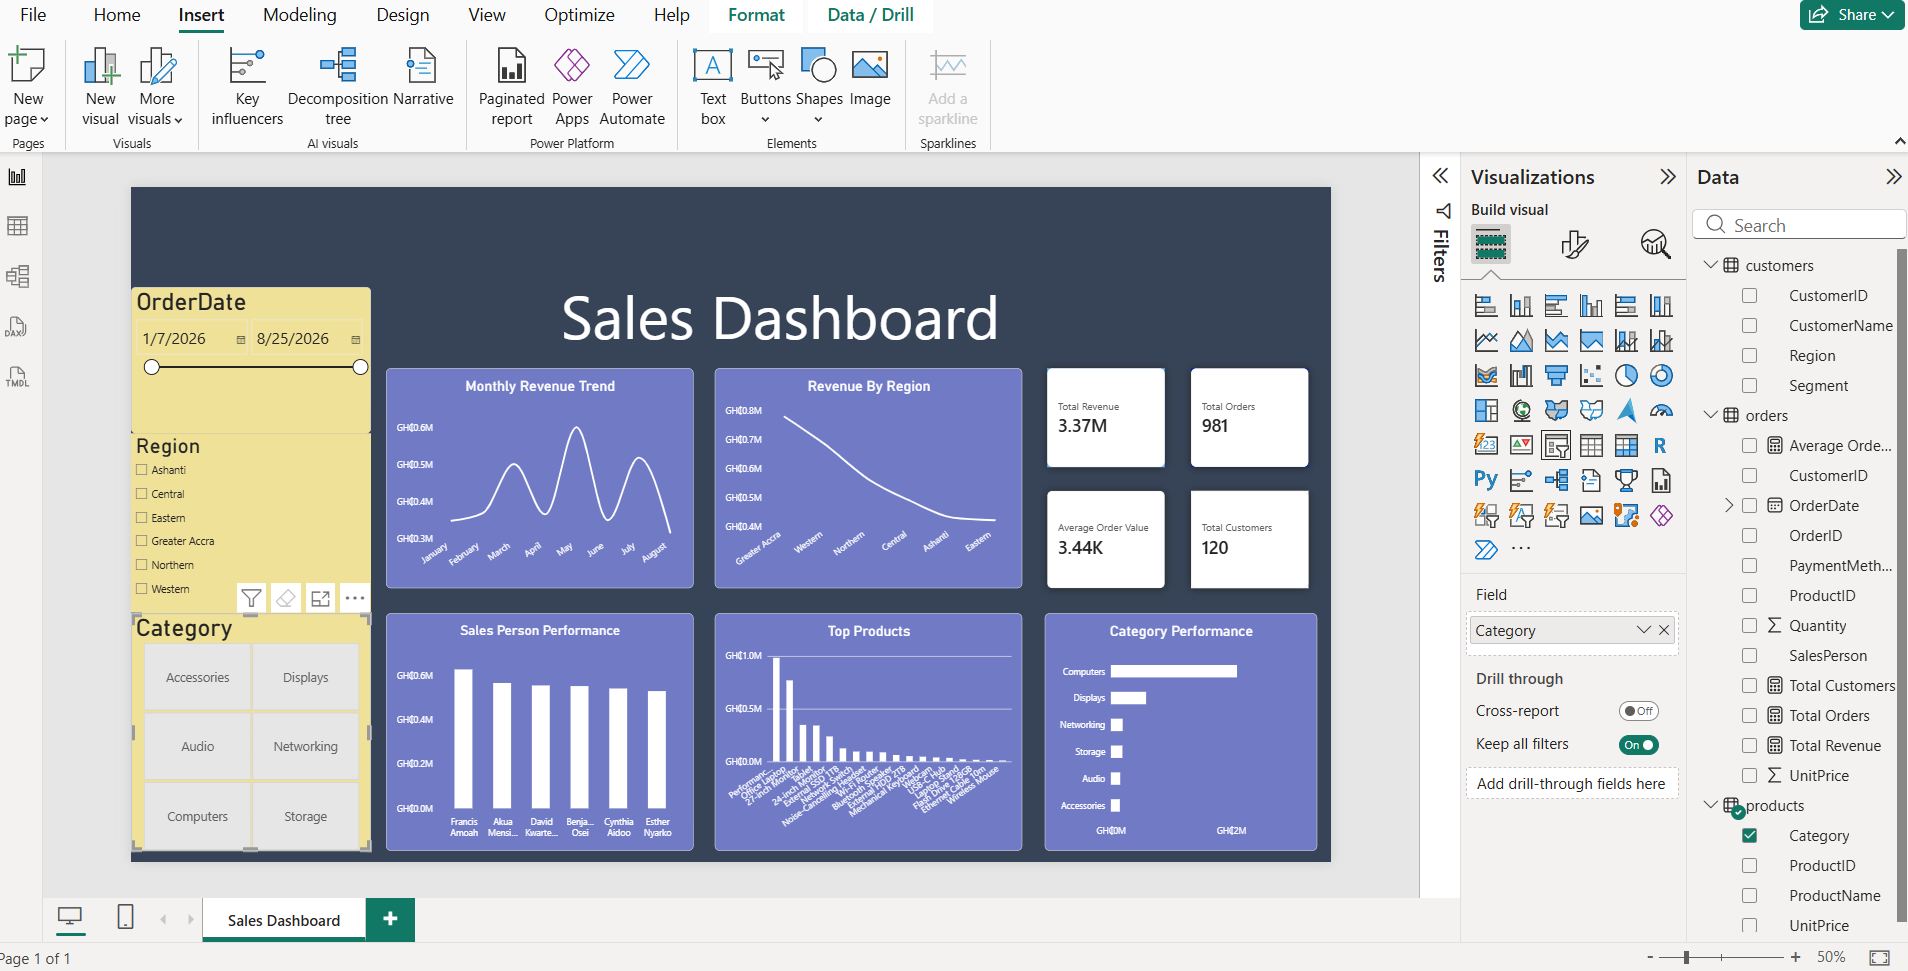

The page's visual inventory and layout, read from the dashboard file:
{"tool":"powerbi","page":{"name":"Sales Dashboard","canvas":[1920,1080],"ordinal":0},"visuals":[{"type":"cardVisual","title":"Total Revenue","fields":{"Data":["orders.Total Revenue"]},"box":[1466,290,188,158],"z":0},{"type":"cardVisual","fields":{"Data":["orders.Total Orders"]},"box":[1696,290,188,158],"z":1000},{"type":"cardVisual","fields":{"Data":["orders.Average Order Value"]},"box":[1466,486,188,156],"z":2000},{"type":"cardVisual","fields":{"Data":["orders.Total Customers"]},"box":[1696,486,188,156],"z":3000},{"type":"slicer","fields":{"Values":["orders.OrderDate"]},"box":[0,160,384,234],"z":4000},{"type":"slicer","fields":{"Values":["products.Category"]},"box":[0,682,384,380],"z":5000},{"type":"lineChart","title":"Monthly Revenue Trend","fields":{"Category":["orders.OrderDate.Variation.Date Hierarchy.Month"],"Y":["orders.Total Revenue"]},"box":[408,290,492,352],"z":6000},{"type":"slicer","fields":{"Values":["customers.Region"]},"box":[0,394,384,288],"z":7000},{"type":"lineChart","title":"Revenue By Region","fields":{"Category":["customers.Region"],"Y":["orders.Total Revenue"]},"box":[934,290,492,352],"z":8000},{"type":"clusteredColumnChart","title":"Top Products","fields":{"Category":["products.ProductName"],"Y":["orders.Total Revenue"]},"box":[934,682,492,380],"z":9000},{"type":"clusteredColumnChart","title":"Sales Person Performance","fields":{"Category":["orders.SalesPerson"],"Y":["orders.Total Revenue"]},"box":[408,682,492,380],"z":10000},{"type":"textbox","box":[656,140,766,138],"z":11000},{"type":"clusteredBarChart","title":"Category Performance","fields":{"Category":["products.Category"],"Y":["orders.Total Revenue"]},"box":[1462,682,436,380],"z":11001}]}

Visuals, with their boxes on the page's 1920x1080 design canvas (x1, y1, x2, y2). These are canvas units, not pixel positions in the 1908x971 screenshot, which may show the page scaled, cropped or inside an application window:
"Total Revenue" cardVisual: x1=1466, y1=290, x2=1654, y2=448
cardVisual - orders.Total Orders: x1=1696, y1=290, x2=1884, y2=448
cardVisual - orders.Average Order Value: x1=1466, y1=486, x2=1654, y2=642
cardVisual - orders.Total Customers: x1=1696, y1=486, x2=1884, y2=642
slicer - orders.OrderDate: x1=0, y1=160, x2=384, y2=394
slicer - products.Category: x1=0, y1=682, x2=384, y2=1062
"Monthly Revenue Trend" lineChart: x1=408, y1=290, x2=900, y2=642
slicer - customers.Region: x1=0, y1=394, x2=384, y2=682
"Revenue By Region" lineChart: x1=934, y1=290, x2=1426, y2=642
"Top Products" clusteredColumnChart: x1=934, y1=682, x2=1426, y2=1062
"Sales Person Performance" clusteredColumnChart: x1=408, y1=682, x2=900, y2=1062
textbox: x1=656, y1=140, x2=1422, y2=278
"Category Performance" clusteredBarChart: x1=1462, y1=682, x2=1898, y2=1062
